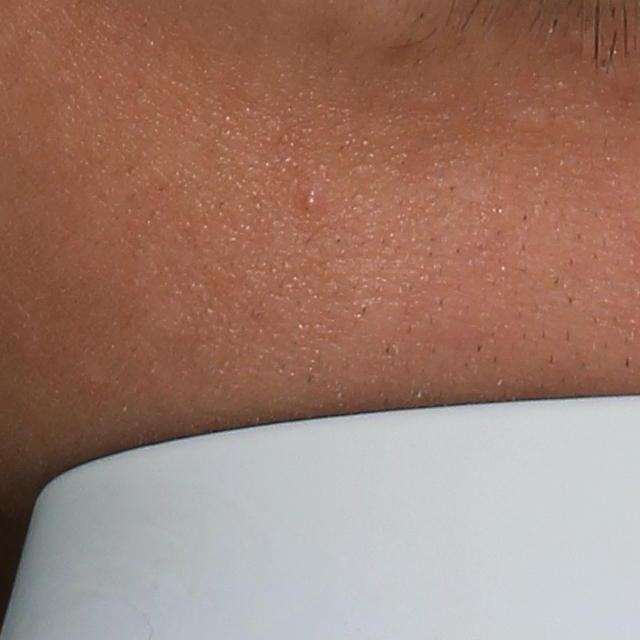comedo: (303, 192, 319, 211)
hypertrophic_scar: (504, 106, 551, 132)
